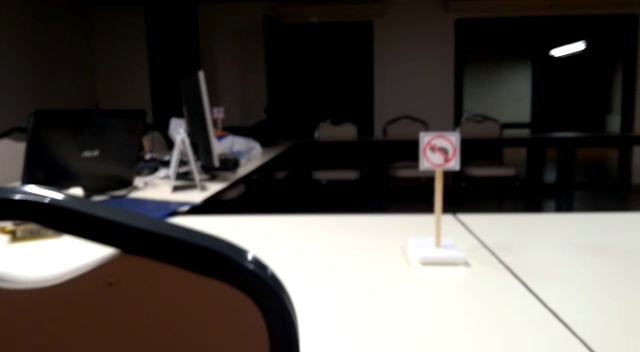sola_donulmez: (424, 135, 455, 172)
